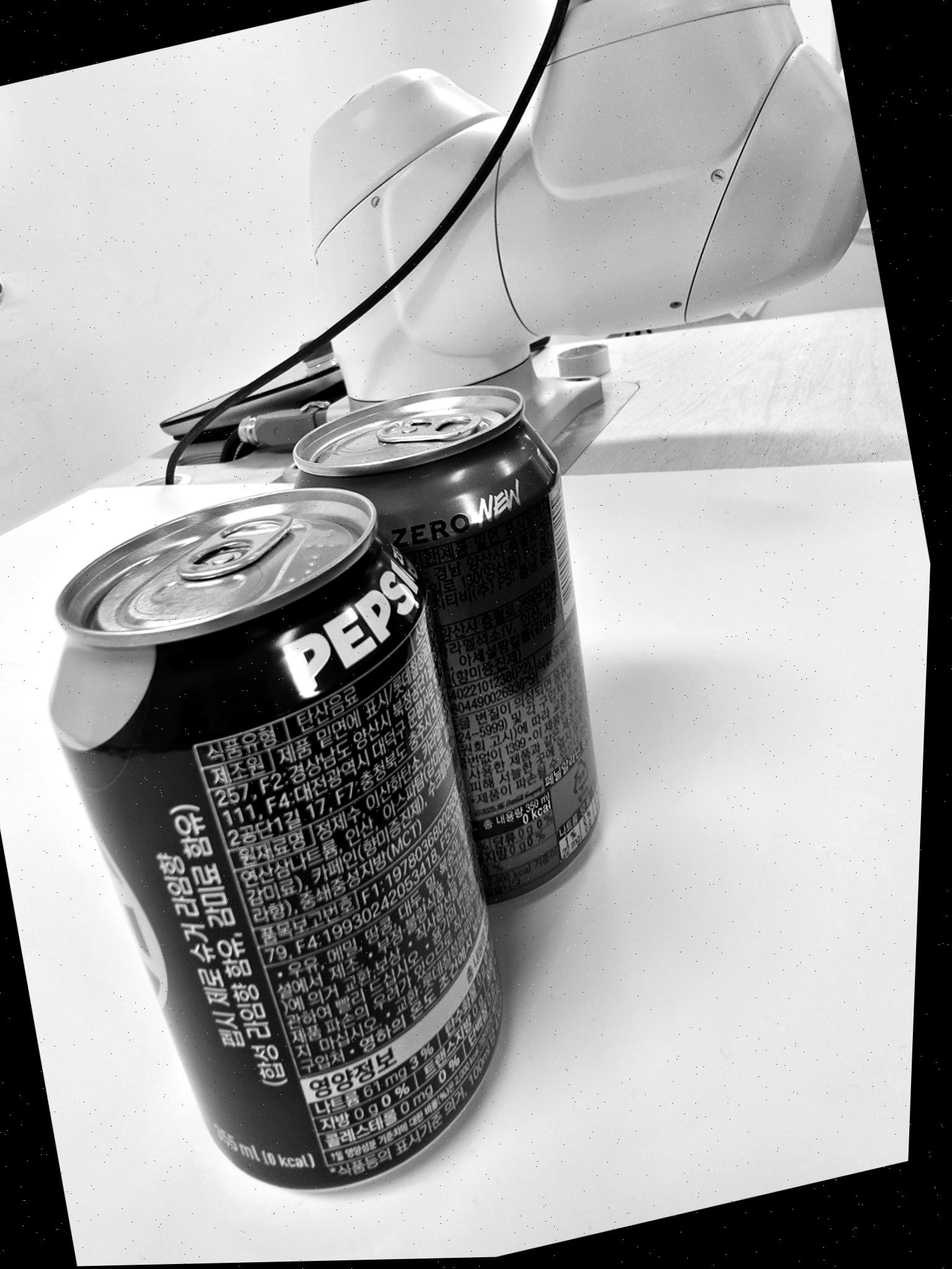can_coke_zero: (290, 392, 611, 893)
can_pepsi_zero: (45, 489, 507, 1190)
